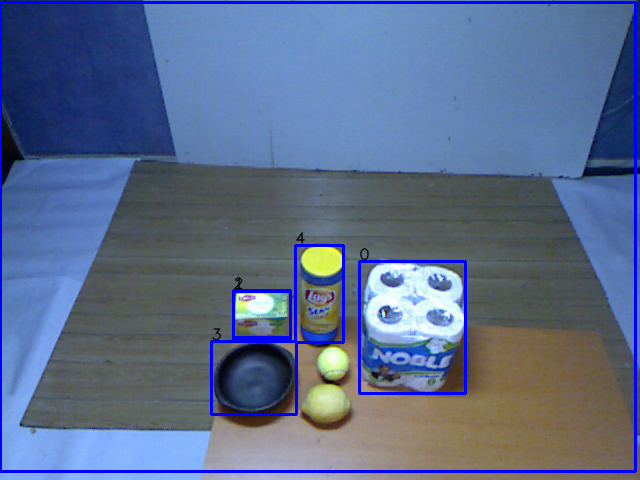confort: (357, 257, 468, 399)
greda: (206, 338, 298, 421)
limon: (298, 378, 355, 432)
papas: (295, 240, 346, 352)
pelota: (314, 343, 353, 385)
te: (228, 286, 295, 348)
